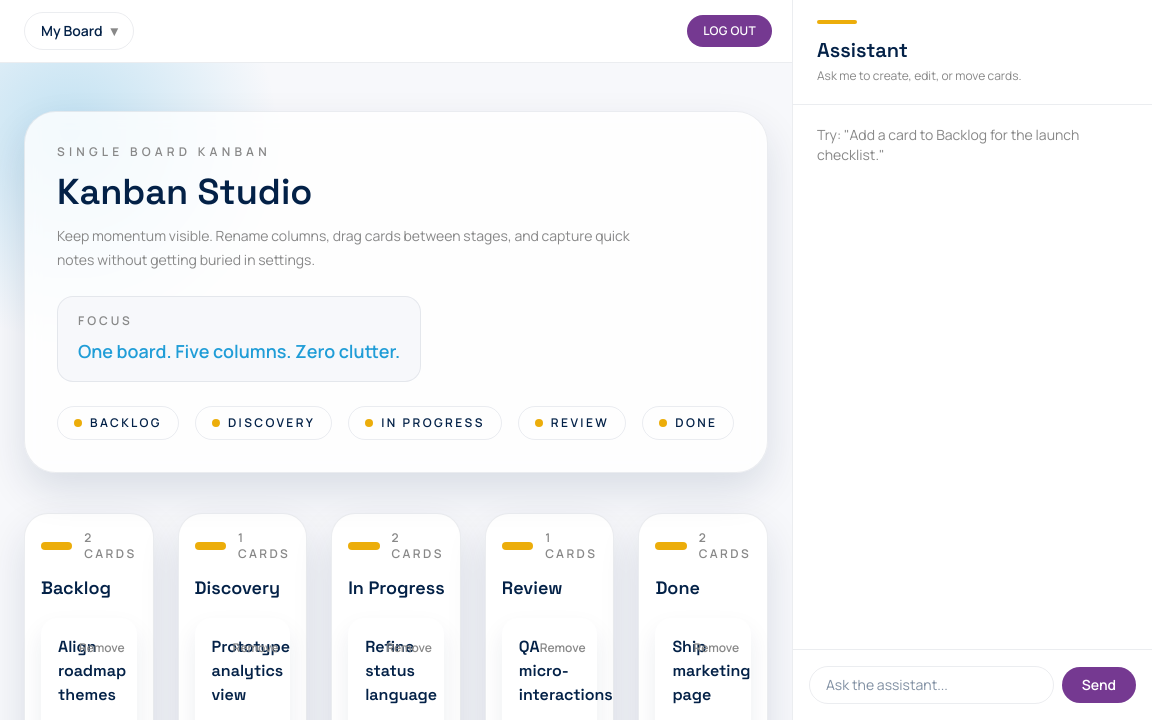
Test: AuthGate › logs out and returns to the login form
Click the button "Log out" at (730, 31), box [687,15,772,47]
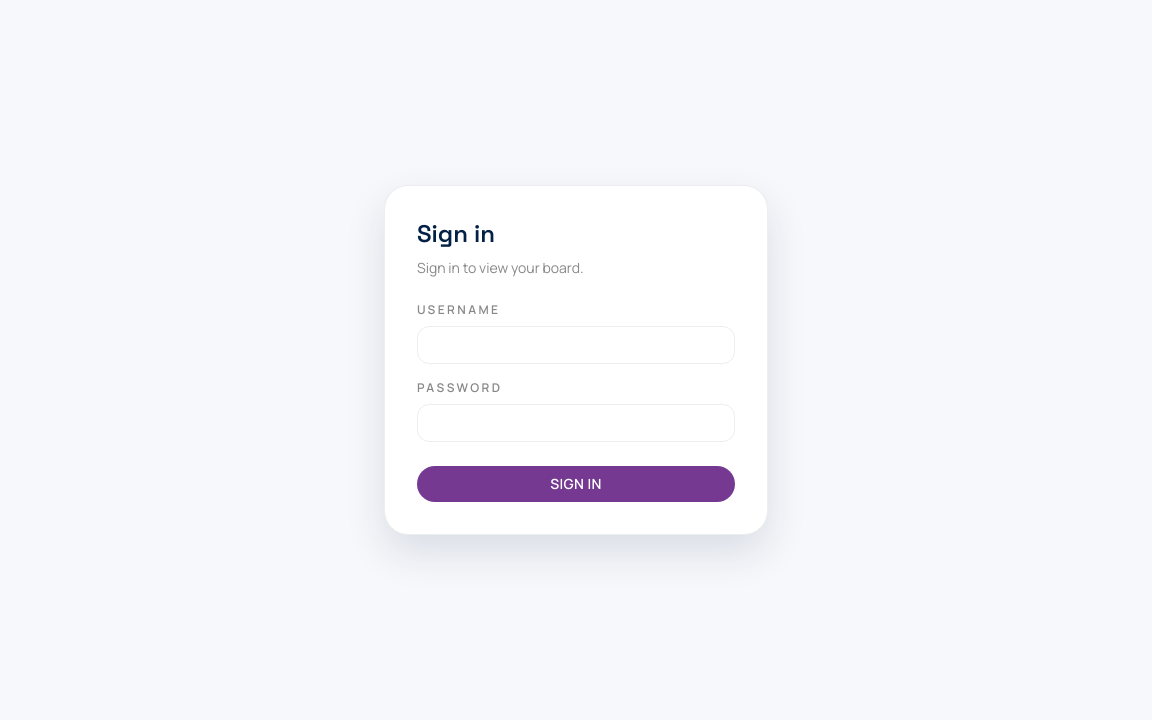
Expected: the heading "Sign in" is shown, [417,218,495,249]
